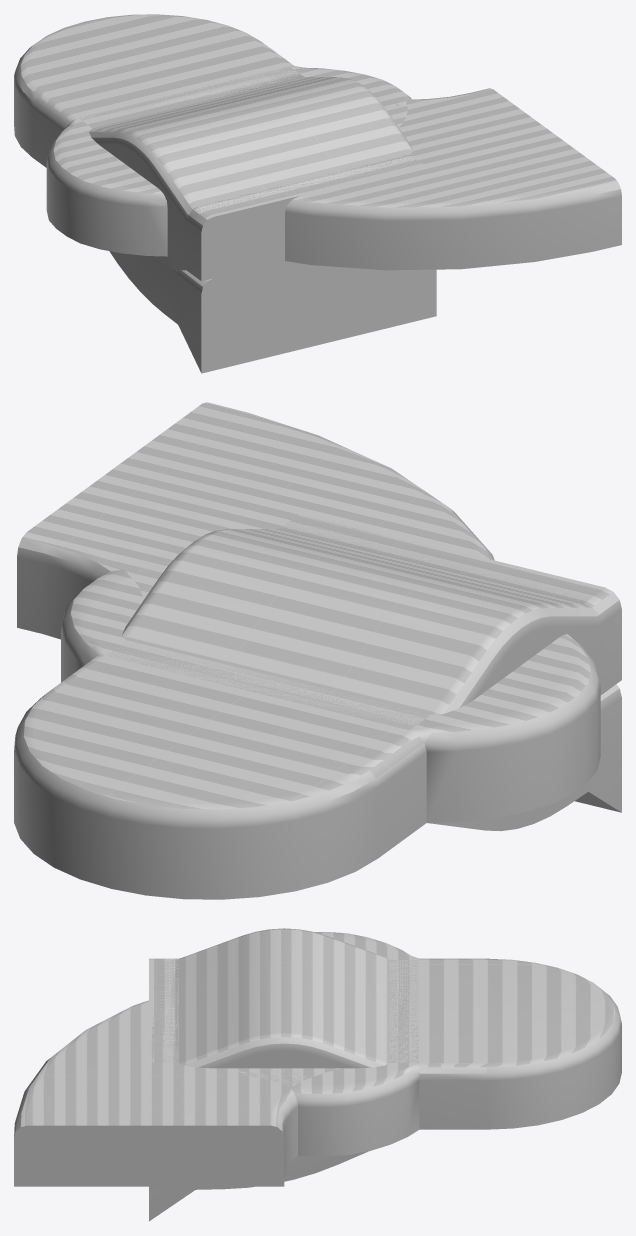
File: Floor_2x4_SofterEdge_thick.fbx
3 renders of one model, top to bottom at view 1: azimuth 30°, elevation 25°; view 2: azimuth 150°, elevation 25°; view 3: azimuth 270°, elevation 25°, orthographic. The views are drawn at different scales.
Parts seen in each view (by area): view 1: Floor_2x4_SrE_T_rotate, Floor_2x4_SrE_T_hill, Floor_2x4_SrE_T_cap, Floor_2x4_SrE_T_ramp2, Floor_2x4_SrE_T_circle, Floor_2x4_SrE_T_ramp1, Floor_2x4_SrE_T_deep1, Floor_2x4_SrE_T_deep2, Floor_2x4_SrE_T_main; view 2: Floor_2x4_SrE_T_cap, Floor_2x4_SrE_T_hill, Floor_2x4_SrE_T_rotate, Floor_2x4_SrE_T_circle, Floor_2x4_SrE_T_main, Floor_2x4_SrE_T_ramp1, Floor_2x4_SrE_T_ramp2, Floor_2x4_SrE_T_deep1; view 3: Floor_2x4_SrE_T_rotate, Floor_2x4_SrE_T_cap, Floor_2x4_SrE_T_hill, Floor_2x4_SrE_T_circle, Floor_2x4_SrE_T_main, Floor_2x4_SrE_T_ramp1, Floor_2x4_SrE_T_ramp2, Floor_2x4_SrE_T_deep1, Floor_2x4_SrE_T_deep2.
Part boxes in pixels (x1,y1,x2,y2): Floor_2x4_SrE_T_rotate: (81,67,621,270); Floor_2x4_SrE_T_hill: (79,66,424,281); Floor_2x4_SrE_T_cap: (14,14,294,167); Floor_2x4_SrE_T_ramp2: (109,251,436,342); Floor_2x4_SrE_T_circle: (46,66,411,256); Floor_2x4_SrE_T_ramp1: (78,69,436,373); Floor_2x4_SrE_T_deep1: (81,68,421,278); Floor_2x4_SrE_T_deep2: (168,155,423,280); Floor_2x4_SrE_T_main: (78,66,294,128); Floor_2x4_SrE_T_cap: (14,656,426,899); Floor_2x4_SrE_T_hill: (107,513,621,729); Floor_2x4_SrE_T_rotate: (17,402,494,729); Floor_2x4_SrE_T_circle: (61,562,600,822); Floor_2x4_SrE_T_main: (106,640,428,730); Floor_2x4_SrE_T_ramp1: (107,641,621,812); Floor_2x4_SrE_T_ramp2: (428,684,621,831); Floor_2x4_SrE_T_deep1: (111,518,621,725); Floor_2x4_SrE_T_rotate: (14,960,419,1186); Floor_2x4_SrE_T_cap: (419,958,621,1129); Floor_2x4_SrE_T_hill: (149,928,419,1068); Floor_2x4_SrE_T_circle: (238,932,419,1156); Floor_2x4_SrE_T_main: (389,960,419,1062); Floor_2x4_SrE_T_ramp1: (149,960,418,1221); Floor_2x4_SrE_T_ramp2: (149,1151,369,1190); Floor_2x4_SrE_T_deep1: (149,958,419,1159); Floor_2x4_SrE_T_deep2: (149,958,178,1062).
Bounding box in the file's own units: 694 × 299 × 900.
